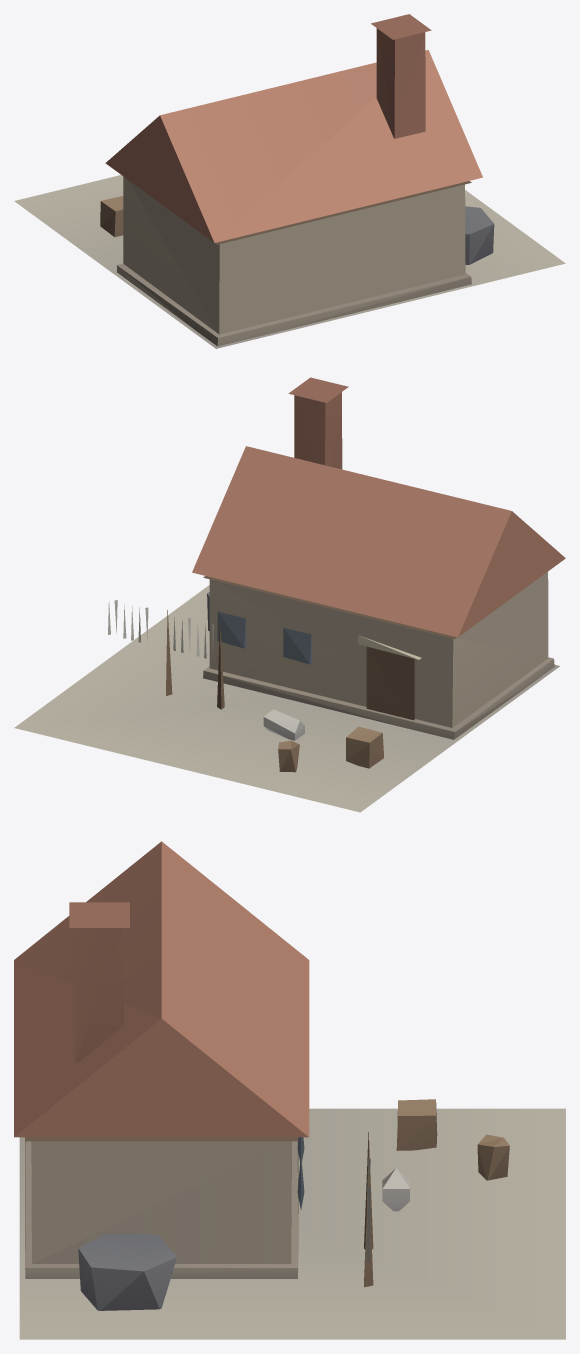
The model's file is candle_foundry.lite.glb.
3 renders of one model, top to bottom at view 1: azimuth 30°, elevation 25°; view 2: azimuth 150°, elevation 25°; view 3: azimuth 270°, elevation 25°, orthographic. The views are drawn at different scales.
Parts seen in each view (by area): view 1: candle_foundry; view 2: candle_foundry; view 3: candle_foundry.
Boxes of the visible parts, x1,y1,x2,y2 form: candle_foundry: [14, 14, 565, 348]; candle_foundry: [14, 377, 565, 812]; candle_foundry: [14, 841, 565, 1339].
Size of the model in its own units: 4 by 2.7 by 4.
